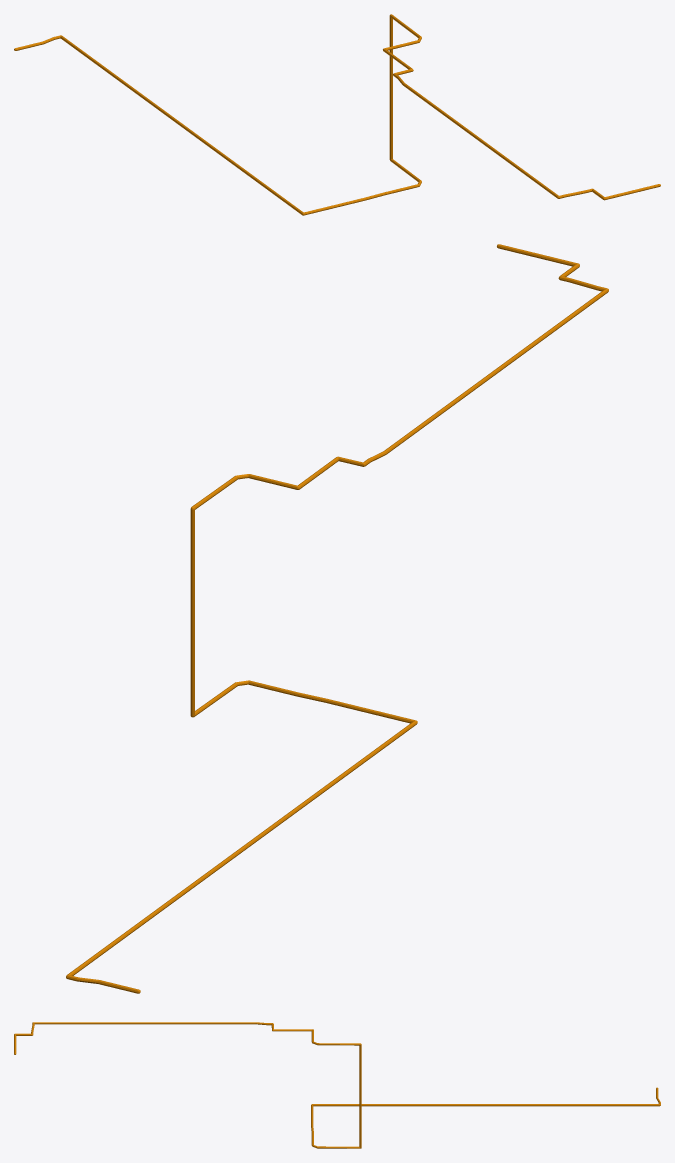
3 views of the same model, one above another, from view 1: azimuth 30°, elevation 25°; view 2: azimuth 150°, elevation 25°; view 3: azimuth 270°, elevation 25° (orthographic). The views are drawn at different scales.
Size of the model in its own units: 1447 by 1020 by 5677.
